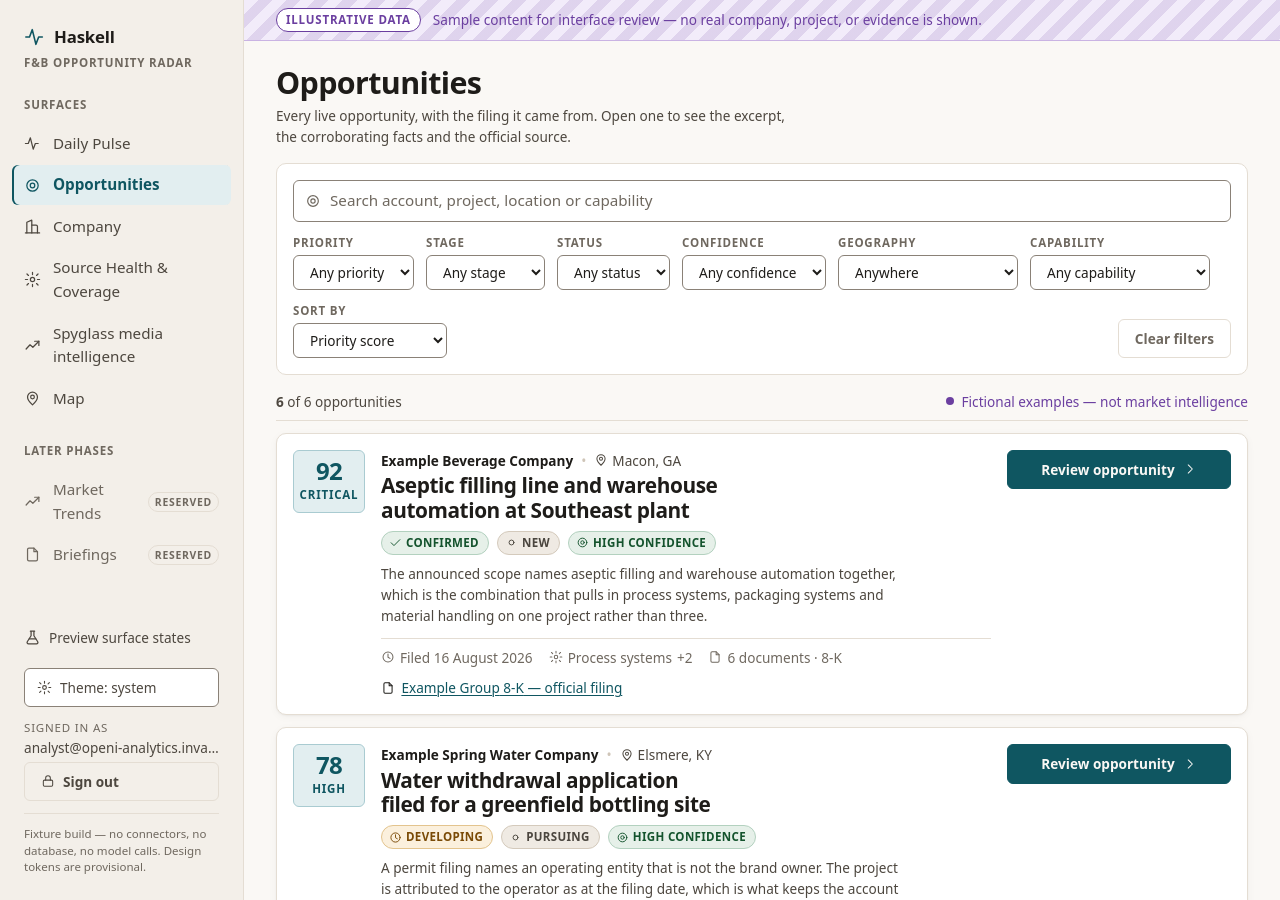
Test: search and filters › clears every filter at once and re-enables the full list
Expected: the button "Clear filters" is disabled, [1118,319,1231,358]
Select "Confirmed" in the dropdown labelled "Stage" at (486, 272), box [426,255,545,290]
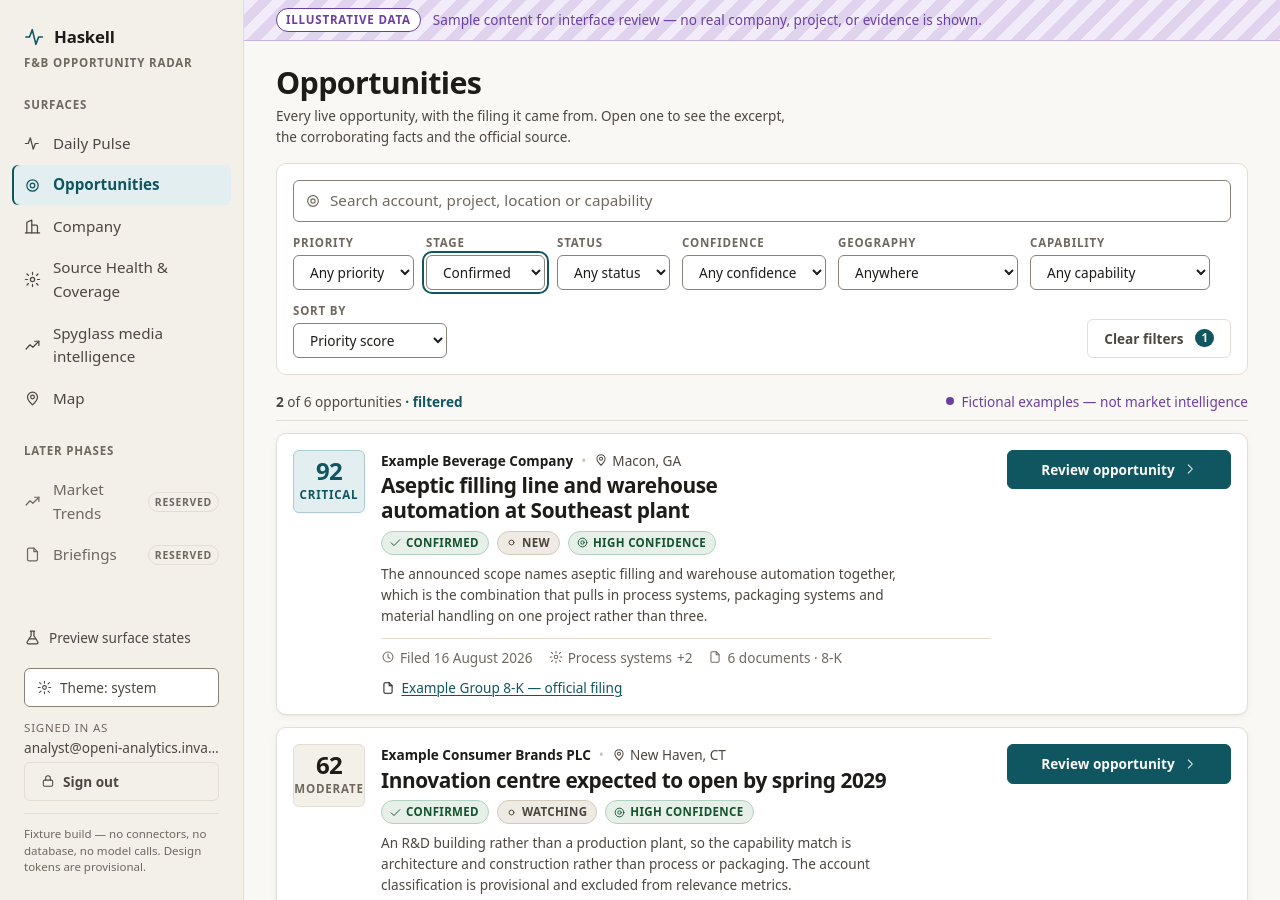
Type "beverage" into the search field named "Search opportunities" at (762, 201), box [293,180,1231,222]
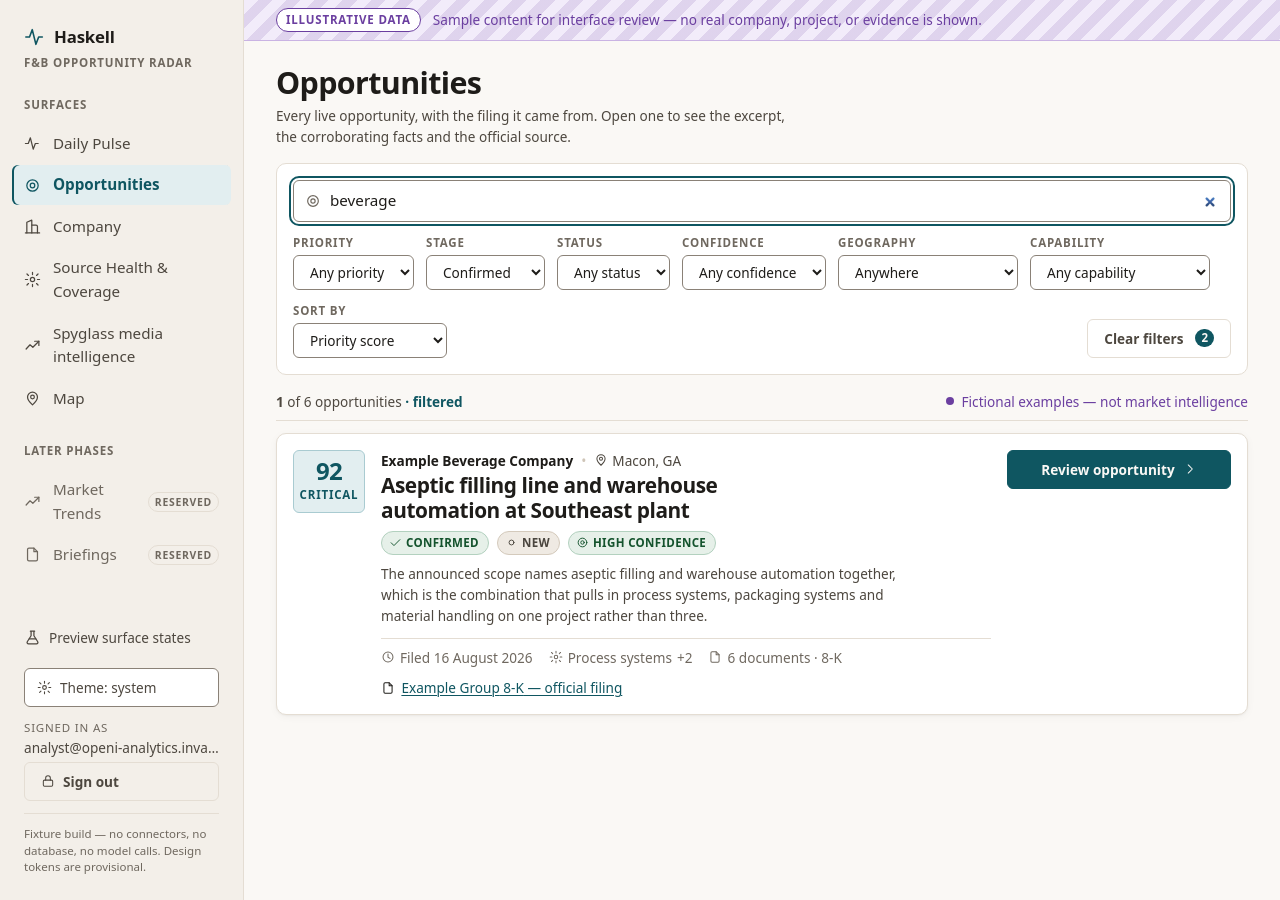
Result: the button "Clear filters 2" is enabled
Click the button "Clear filters 2" at (1159, 338), box [1087,319,1231,358]
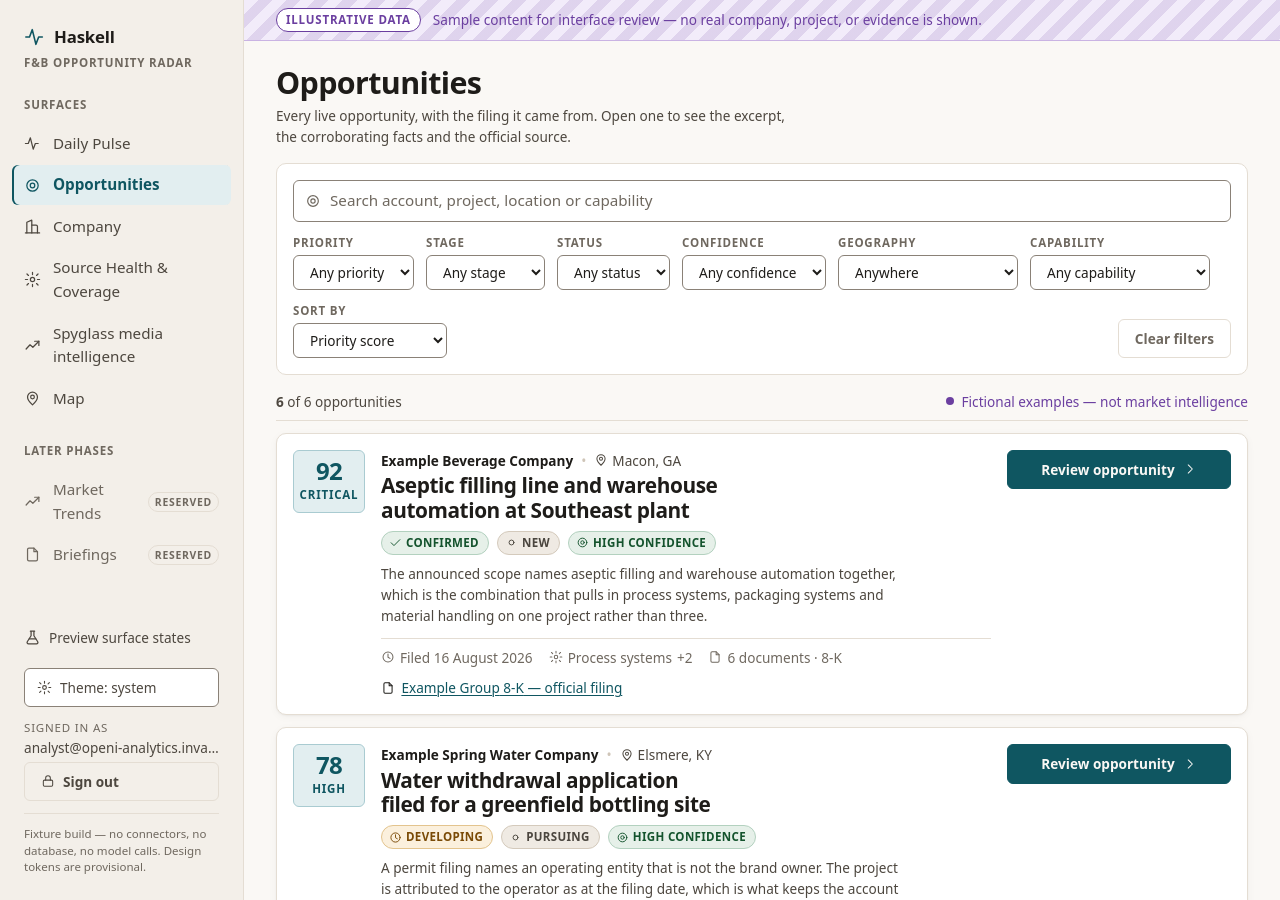
Result: the button "Clear filters" is disabled at [1118,319,1231,358]
